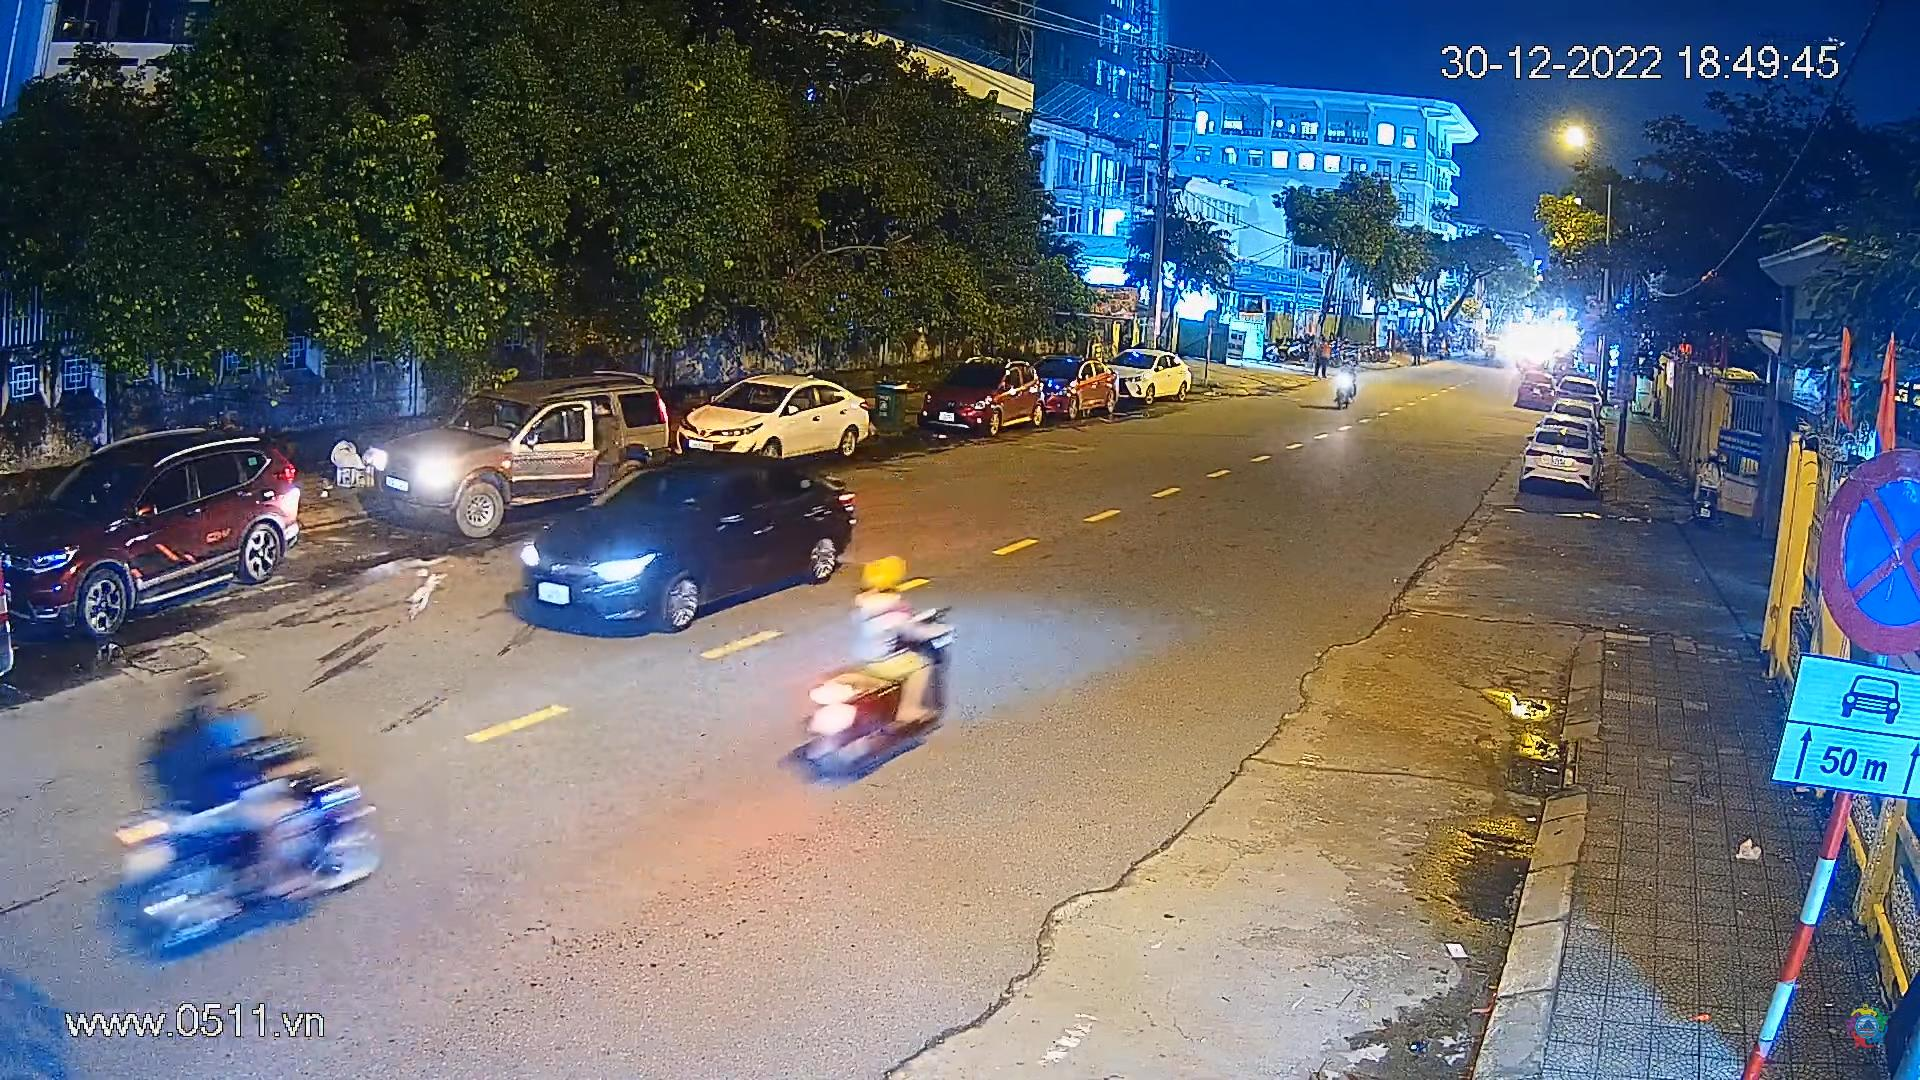car: (0, 422, 309, 640), (514, 460, 856, 640), (401, 371, 686, 538), (694, 375, 876, 468), (906, 355, 1046, 440), (1035, 349, 1126, 427), (1520, 418, 1600, 505), (1105, 349, 1199, 410), (1548, 376, 1604, 418), (1518, 367, 1557, 413)
motorcycle: (86, 658, 390, 957), (790, 550, 964, 781), (1691, 443, 1731, 522), (1327, 352, 1362, 411)
